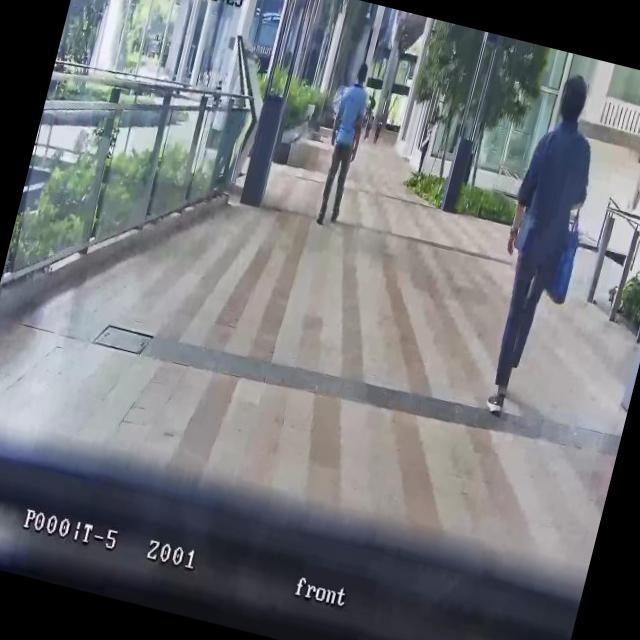person: (464, 66, 615, 424), (308, 58, 378, 230), (413, 124, 433, 176), (362, 110, 375, 140), (371, 116, 384, 145)
